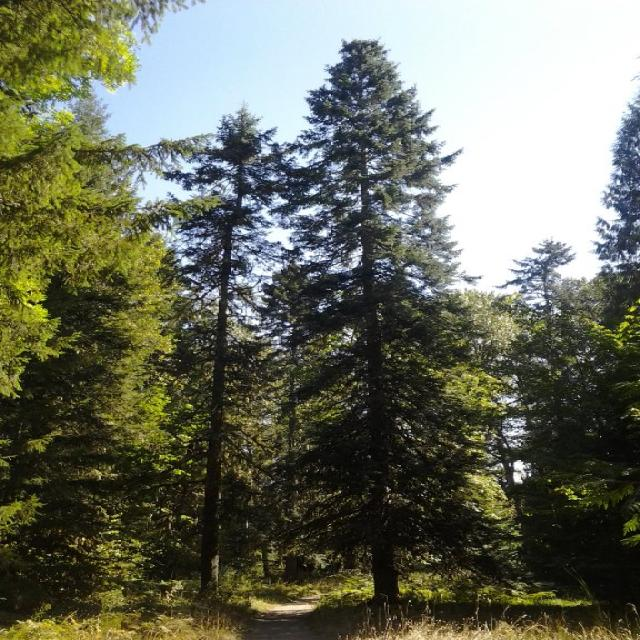Abies: (276, 32, 491, 614), (124, 104, 295, 592)
